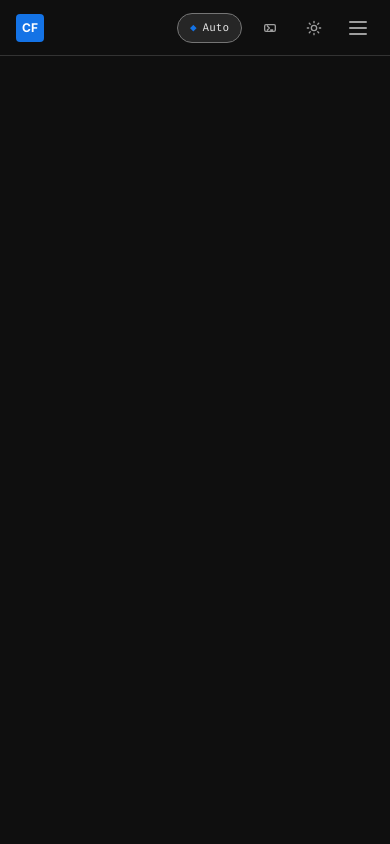
Test: Header — auth and organization switching (PT-1b2) › mobile sign-out failure shows the alert inside the mobile menu, not the desktop surface
Click the button named "Open menu": click(358, 28) 342,12 -> 374,44
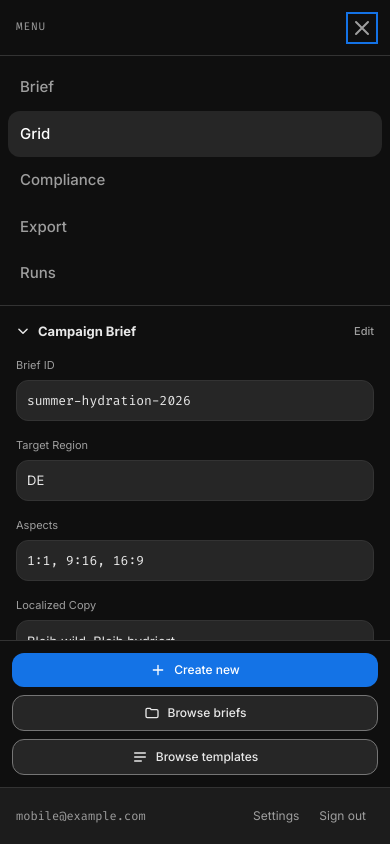
Click the button "Sign out": click(343, 816) 311,804 -> 374,828
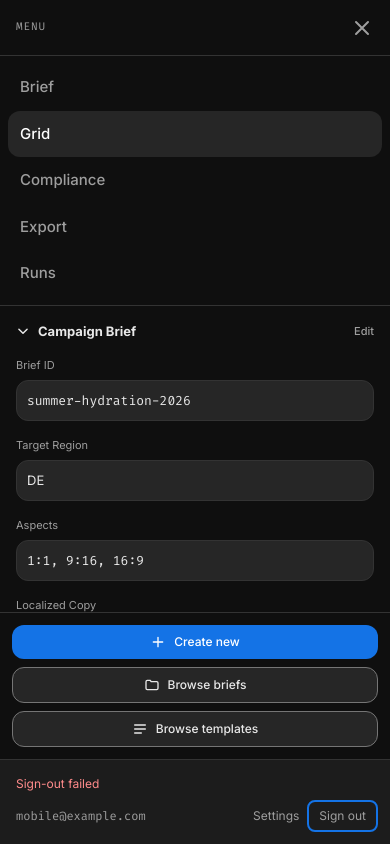
Result: the message reads "Sign-out failed" at 16,776 -> 99,791
